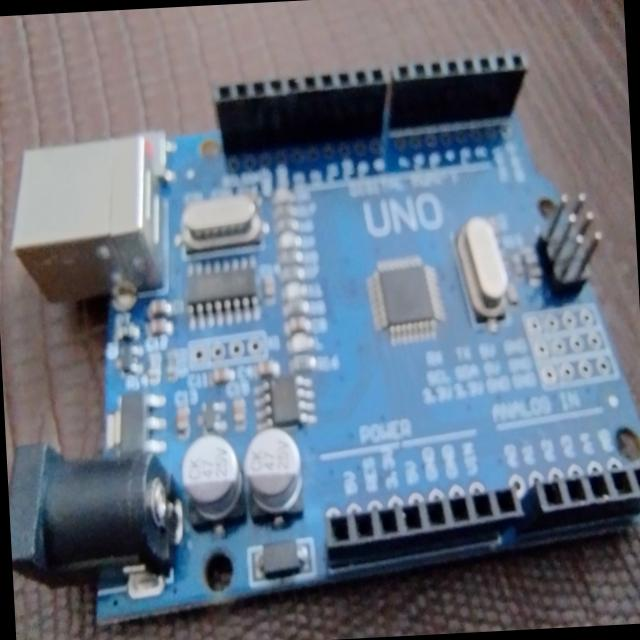arduino: (0, 42, 640, 640)
